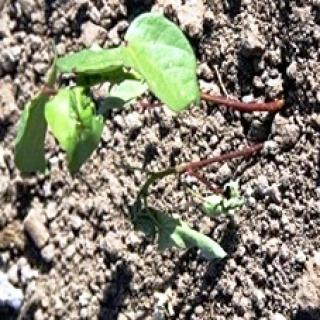wilt: (44, 77, 102, 157)
